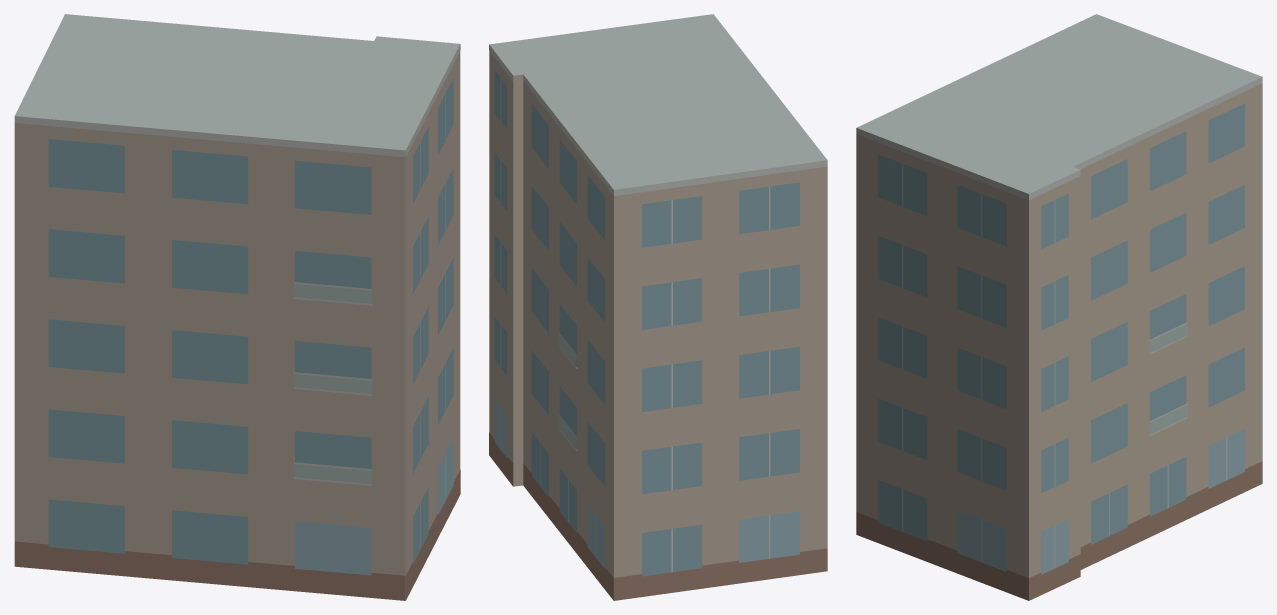
Rendered from survey-upis-32523452.glb.
The picture shows the model from 3 angles, left to right: view 1: azimuth 30°, elevation 25°; view 2: azimuth 150°, elevation 25°; view 3: azimuth 270°, elevation 25°; orthographic projection. The views are drawn at different scales.
Parts seen in each view (by area): view 1: survey-upis-32523452.tmp; view 2: survey-upis-32523452.tmp; view 3: survey-upis-32523452.tmp.
Part boxes in pixels (x1,y1,x2,y2): survey-upis-32523452.tmp: [14, 14, 460, 600]; survey-upis-32523452.tmp: [489, 14, 827, 600]; survey-upis-32523452.tmp: [856, 14, 1262, 600].
Size of the model in its own units: 15.19 by 16 by 14.49.
